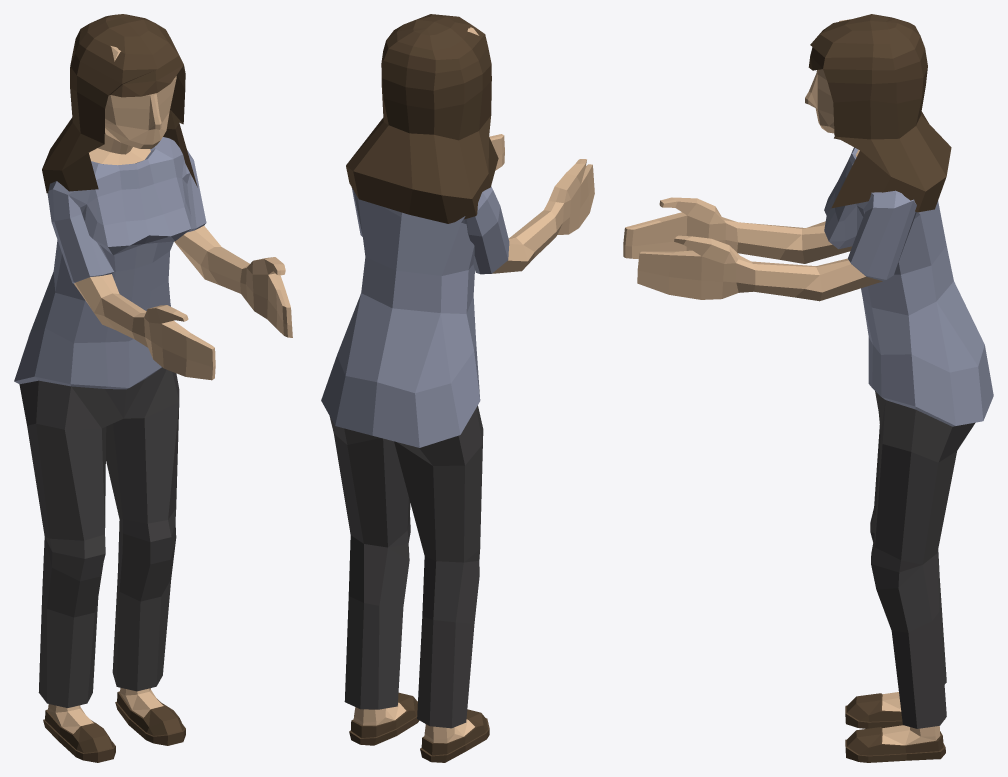
The model's file is Female_Crowd_AtBarrier.glb.
3 renders of one model, left to right at view 1: azimuth 30°, elevation 25°; view 2: azimuth 150°, elevation 25°; view 3: azimuth 270°, elevation 25°, orthographic. The views are drawn at different scales.
Visible parts, largest first — view 1: Female_Crowd_AtBarrier; view 2: Female_Crowd_AtBarrier; view 3: Female_Crowd_AtBarrier.
Boxes of the visible parts, x1,y1,x2,y2 form: Female_Crowd_AtBarrier: (14, 14, 292, 762); Female_Crowd_AtBarrier: (321, 14, 594, 762); Female_Crowd_AtBarrier: (623, 14, 993, 762).
Bounding box in the file's own units: 0.353 × 1.67 × 0.7839.
